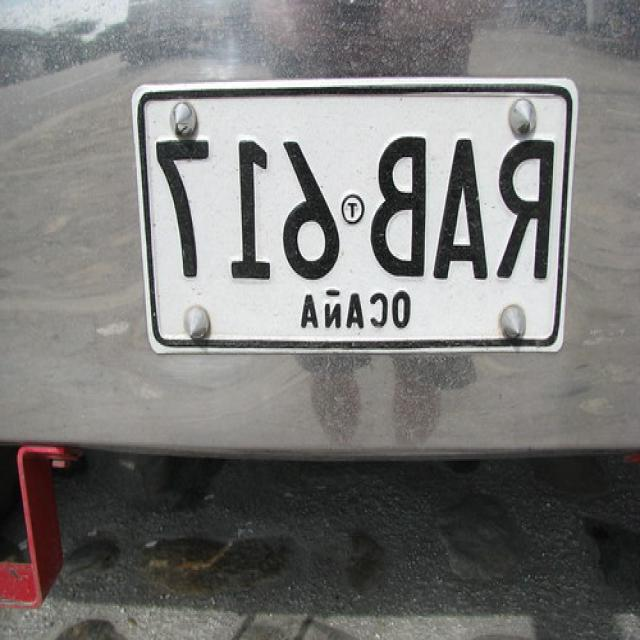placas: (144, 124, 569, 293)
